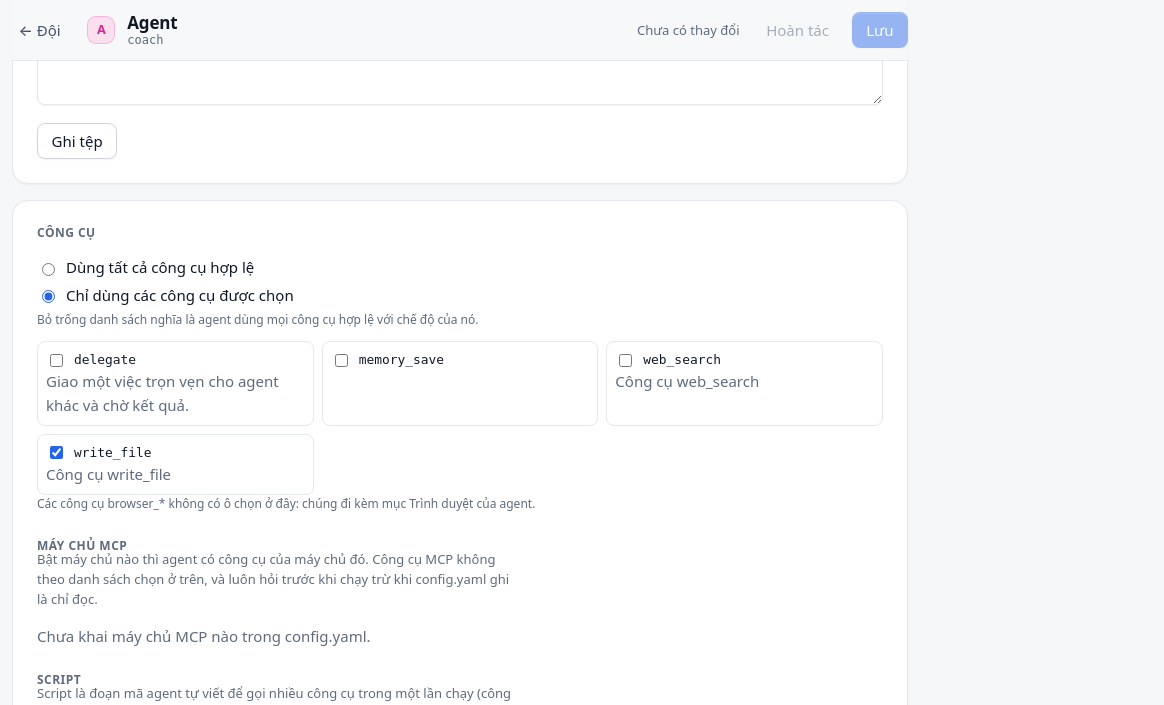
it: the rows the picker offers › keep `delegate` when no agent holds it any more, in words of its own, to be ticked back
(page scrolled)
expect the list item that starts with "delegate" shows "Giao một việc trọn vẹn cho agent khác và chờ kết quả.": met, box [46,371,279,415]
Click the checkbox labelled "delegate" at [56, 360], box [50,354,63,367]
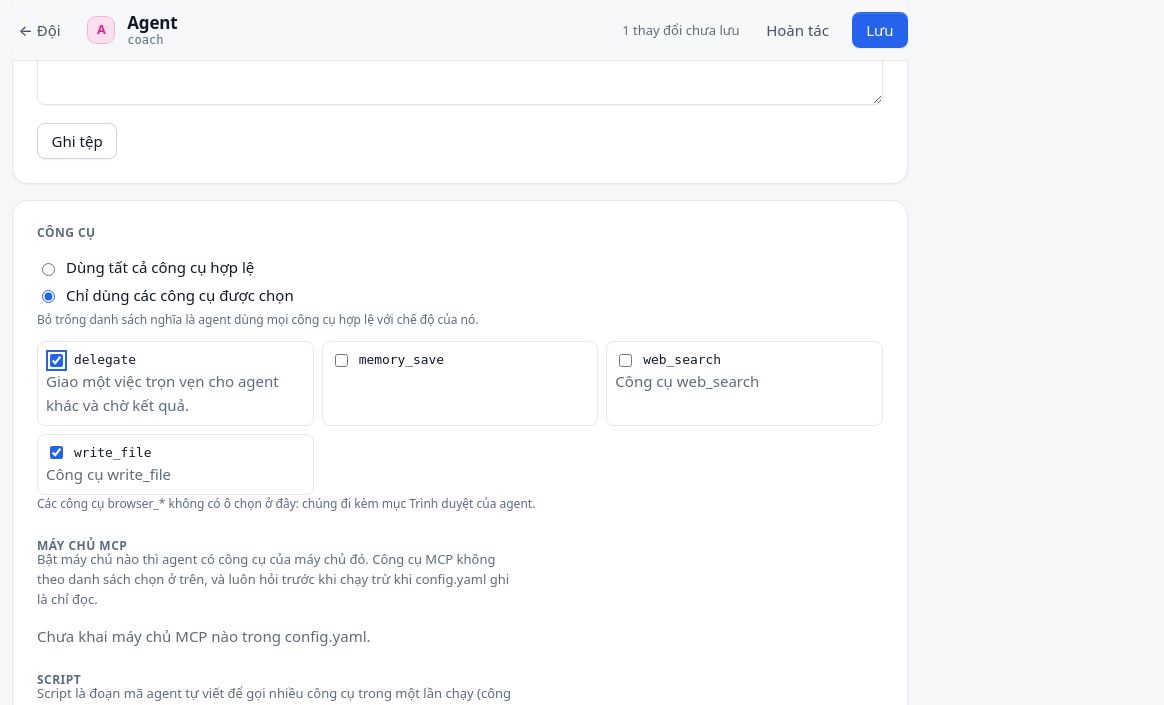
Click the button "Lưu" at [880, 30], box [852,12,908,48]
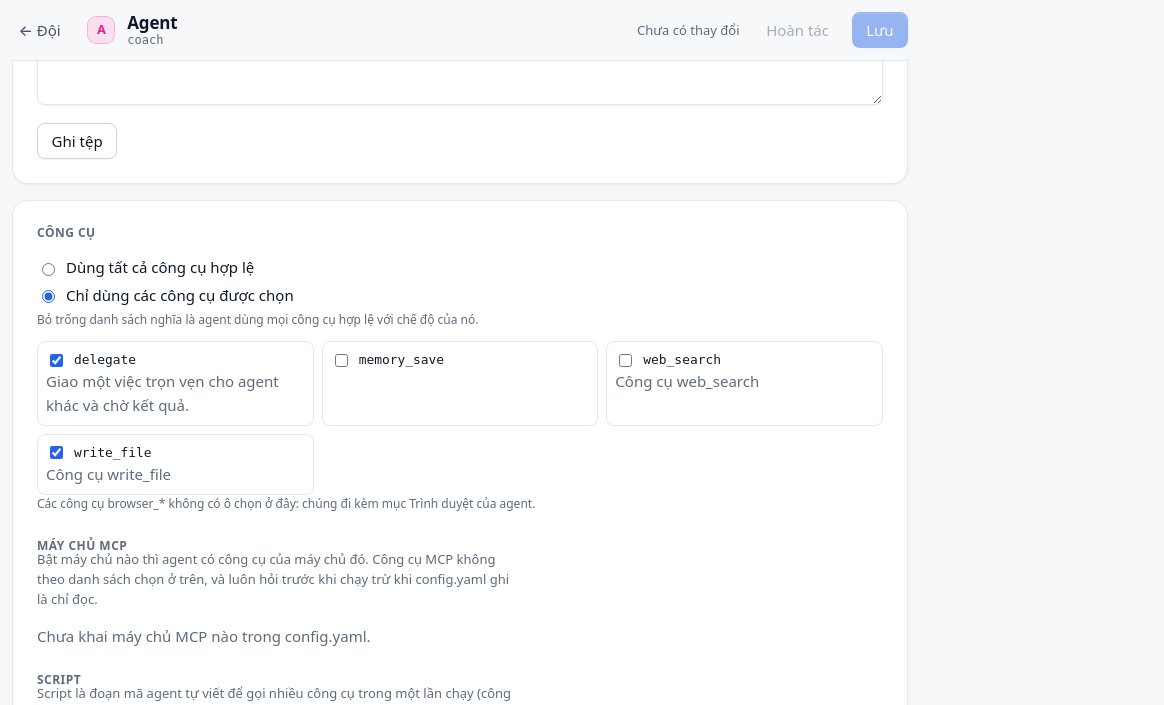
expect the text "Chưa có thay đổi" is shown: met, box [637,20,740,40]
